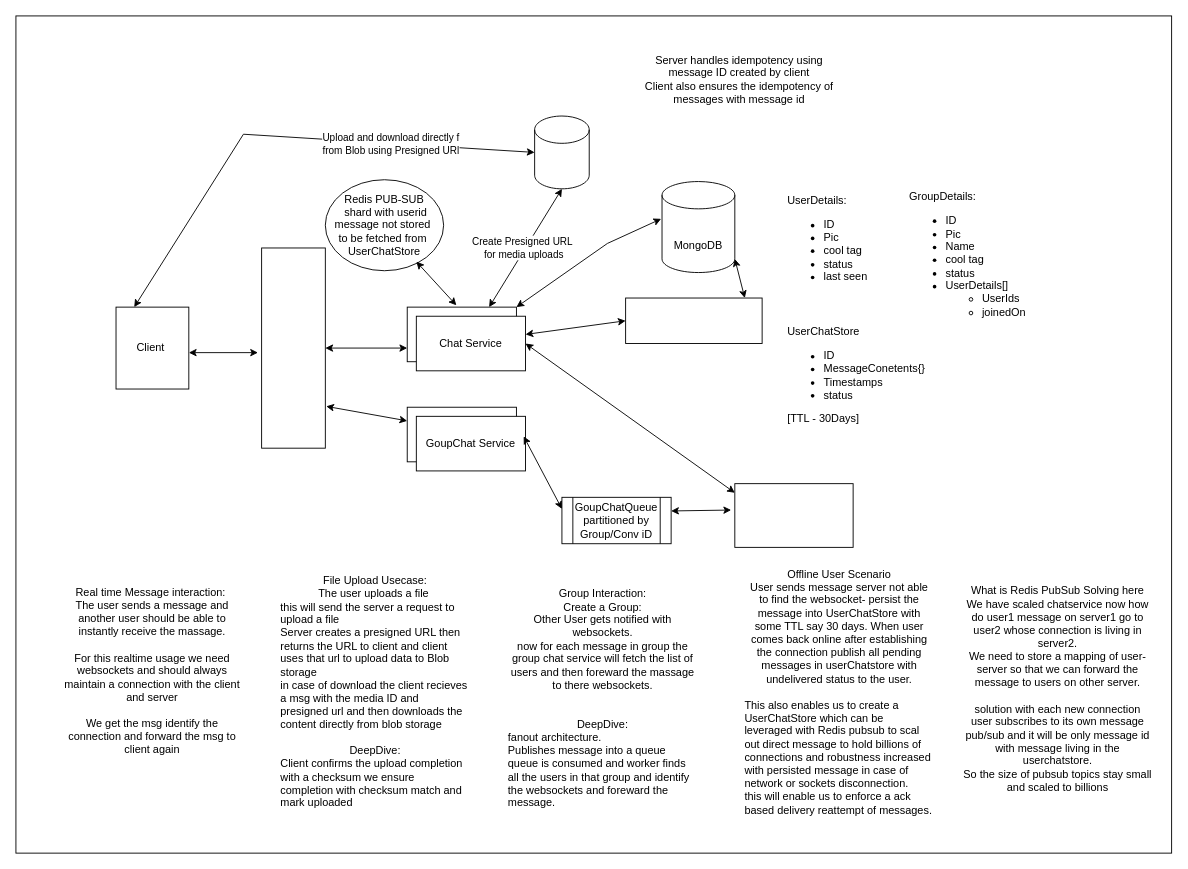
Some shapes in this 1188 by 869 pixel diagram are drawn without their labels. Each missing label, with the box of its shape:
Blob Storage: (534, 115, 589, 189)
FanOutConsumer: (734, 483, 853, 547)
Identify User Offline Publish message to a Chat history store: (625, 297, 762, 344)
LB + ApiGateway: (261, 247, 325, 448)
